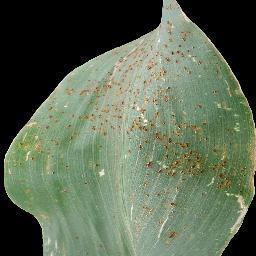Corn_Common_Rust: (96, 0, 256, 236), (0, 62, 96, 172), (23, 212, 55, 256), (210, 235, 230, 256), (160, 237, 178, 253), (23, 179, 33, 200), (60, 187, 73, 195), (98, 244, 111, 251), (79, 249, 91, 256), (75, 235, 85, 240)
